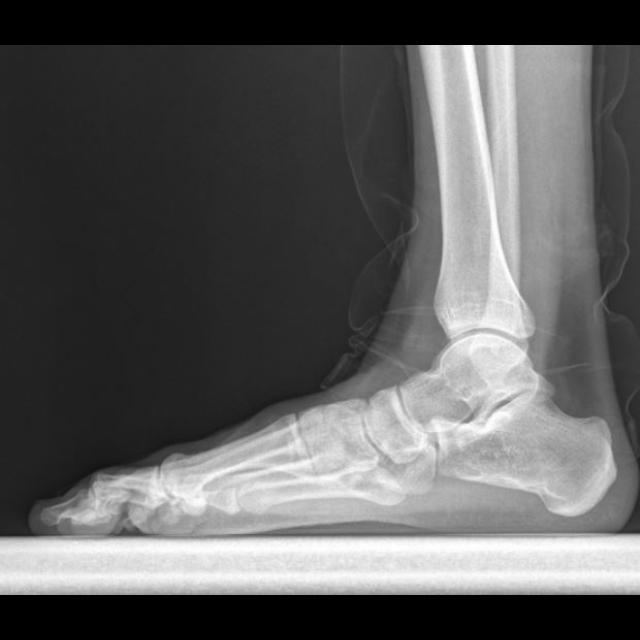a: (443, 389, 617, 520)
b: (365, 386, 434, 464)
c: (162, 415, 319, 515)
